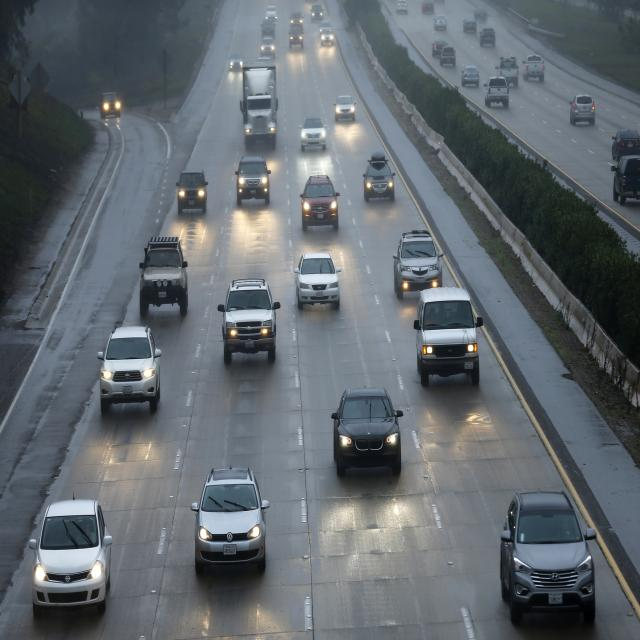car: (498, 486, 600, 625), (30, 499, 111, 617), (192, 465, 268, 572), (413, 286, 483, 389), (330, 387, 404, 480), (96, 324, 162, 414), (218, 276, 279, 368), (139, 235, 189, 318), (393, 230, 444, 298), (294, 252, 343, 315), (300, 174, 340, 232), (235, 155, 272, 203), (363, 153, 396, 203), (611, 155, 640, 205), (178, 167, 208, 212), (611, 126, 640, 162), (568, 92, 596, 128), (302, 114, 328, 152), (486, 76, 510, 110), (496, 55, 520, 87), (333, 93, 358, 123), (99, 92, 122, 120), (524, 54, 546, 81), (439, 44, 459, 70), (478, 25, 498, 50), (460, 64, 480, 88), (287, 26, 305, 49), (260, 36, 277, 60), (228, 52, 245, 74), (319, 27, 335, 48), (432, 40, 448, 57), (290, 11, 304, 30), (311, 4, 324, 22), (462, 18, 477, 32), (265, 6, 278, 22), (434, 14, 447, 30), (422, 0, 434, 14), (396, 0, 408, 14)
truck: (240, 61, 280, 149)
